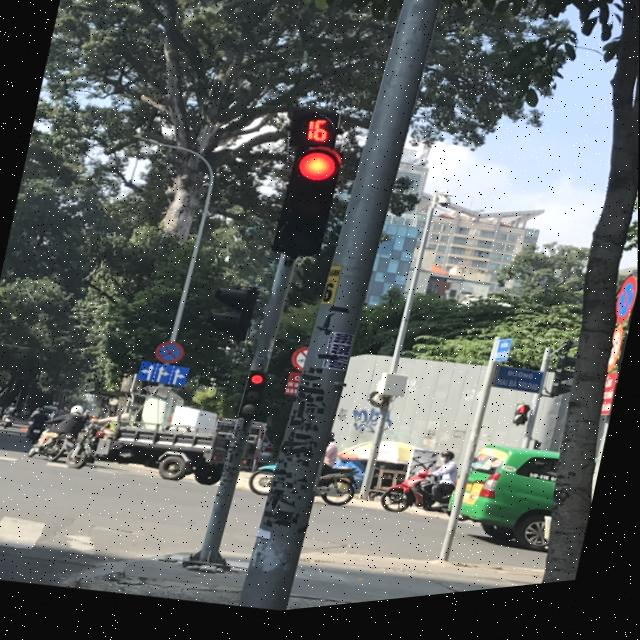Red: (267, 144, 347, 270), (237, 372, 269, 432)
